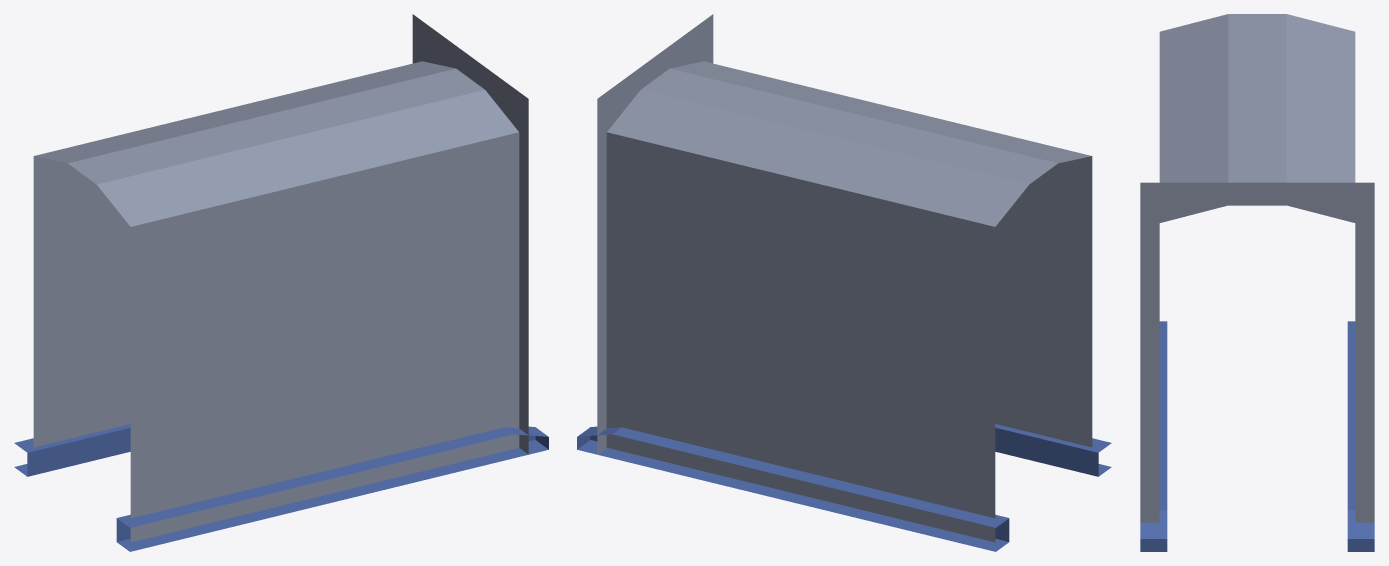
The model's file is door-optimized-long.fbx.
The picture shows the model from 3 angles, left to right: view 1: azimuth 30°, elevation 25°; view 2: azimuth 150°, elevation 25°; view 3: azimuth 270°, elevation 25°; orthographic projection.
Visible parts, largest first — view 1: door-optimized-long; view 2: door-optimized-long; view 3: door-optimized-long.
Part boxes in pixels (bbox=[...]): door-optimized-long: bbox=[14, 14, 548, 551]; door-optimized-long: bbox=[577, 14, 1111, 551]; door-optimized-long: bbox=[1140, 14, 1374, 551].
Size of the model in its own units: 417 by 338 by 200.
